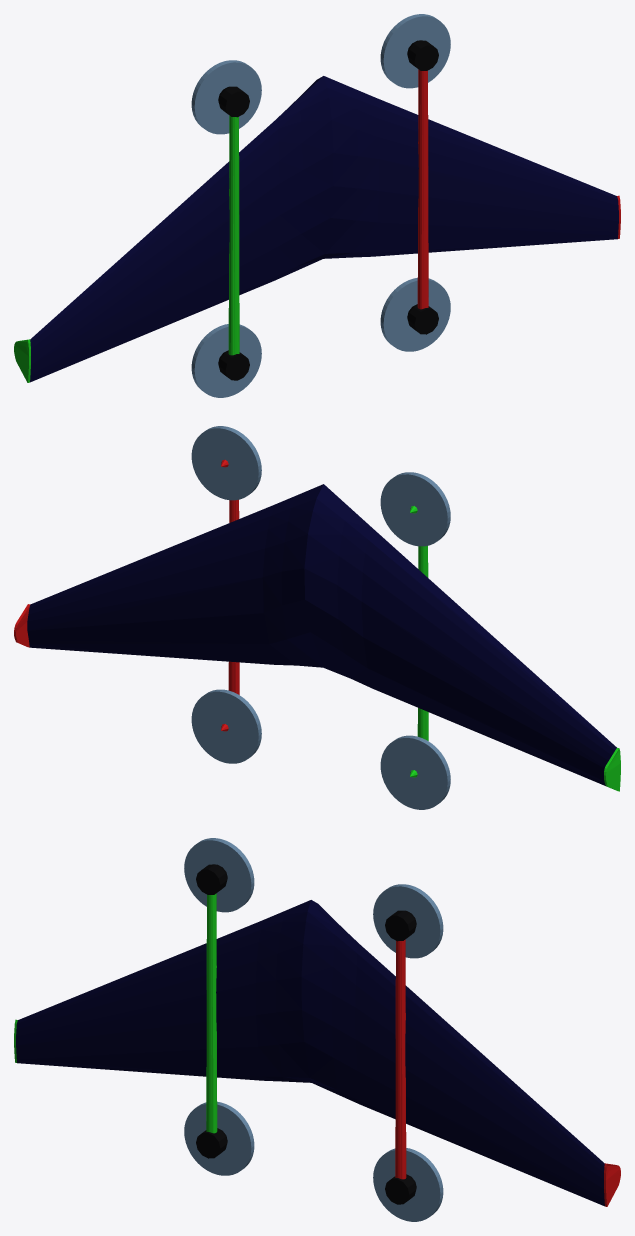
The model's file is xneg90testvtol.obj.
The picture shows the model from 3 angles, top to bottom: view 1: azimuth 30°, elevation 25°; view 2: azimuth 150°, elevation 25°; view 3: azimuth 330°, elevation 25°; orthographic projection.
Visible parts, largest first — view 1: vtol_refactor; view 2: vtol_refactor; view 3: vtol_refactor.
Part boxes in pixels (left/top/right/bottom): vtol_refactor: left=14, top=14, right=620, bottom=397; vtol_refactor: left=14, top=426, right=620, bottom=809; vtol_refactor: left=14, top=838, right=620, bottom=1221.
Bounding box in the file's own units: 1.41 × 0.7594 × 0.1196.
